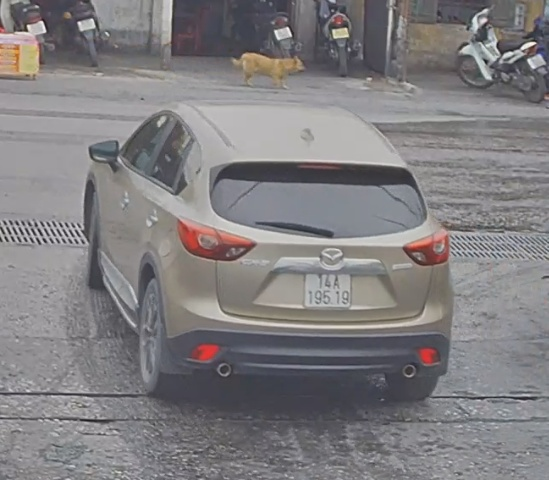vehicle plate: (304, 265, 353, 307)
